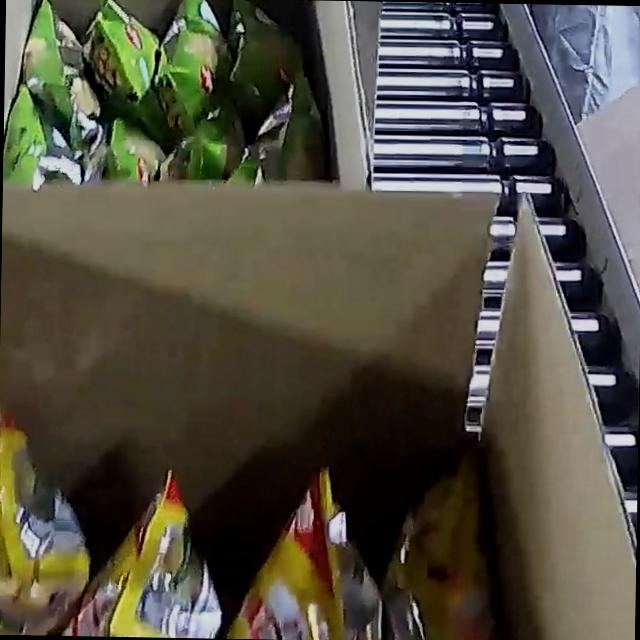salted: (0, 405, 514, 640)
yogurt: (5, 0, 315, 174)
